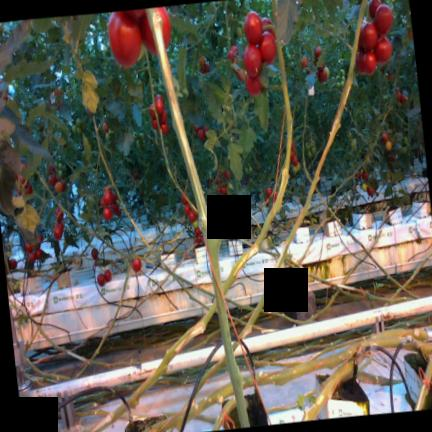6kp_peduncle: (263, 7, 282, 48)
MainStem: (145, 8, 251, 429), (238, 0, 366, 340), (93, 115, 210, 311), (223, 0, 293, 296), (315, 186, 422, 299), (126, 299, 218, 409), (146, 51, 198, 214), (256, 336, 410, 386), (302, 357, 354, 421), (186, 381, 234, 425), (81, 402, 128, 432), (143, 402, 189, 432), (194, 355, 226, 398), (212, 397, 236, 431), (371, 328, 429, 340), (417, 340, 432, 356)
tomato: (108, 12, 141, 67), (139, 7, 171, 54), (244, 11, 263, 45), (374, 4, 393, 36), (244, 44, 262, 77), (359, 21, 378, 51), (259, 31, 276, 64), (374, 37, 392, 64), (246, 74, 262, 96), (362, 52, 376, 75), (261, 17, 275, 39), (368, 0, 381, 18), (356, 50, 365, 74), (126, 9, 145, 18), (53, 222, 63, 239), (104, 188, 112, 205), (132, 257, 141, 272), (317, 69, 327, 82), (103, 206, 113, 219), (155, 100, 164, 114), (159, 109, 167, 123), (24, 180, 32, 194), (55, 207, 63, 221), (227, 47, 235, 61), (237, 69, 246, 81), (35, 247, 43, 260), (97, 274, 106, 285), (8, 258, 17, 269), (55, 181, 63, 193), (49, 174, 57, 186), (198, 56, 206, 68), (105, 268, 112, 281), (226, 183, 233, 196), (230, 45, 238, 56), (111, 202, 119, 213), (151, 118, 158, 130), (29, 251, 36, 263), (189, 210, 196, 222), (160, 123, 168, 133), (150, 103, 155, 119), (315, 46, 321, 59), (385, 140, 392, 151), (381, 132, 388, 143), (91, 248, 98, 259), (198, 129, 205, 140), (155, 94, 164, 102), (184, 203, 190, 215), (181, 192, 187, 204), (301, 56, 308, 66), (400, 93, 407, 103), (367, 186, 374, 196), (25, 242, 32, 252), (291, 155, 298, 165), (396, 88, 401, 101), (48, 165, 56, 173), (354, 171, 361, 180), (362, 170, 368, 180), (236, 27, 242, 37), (266, 187, 272, 197), (61, 179, 66, 190), (112, 191, 117, 202), (224, 170, 230, 179), (325, 67, 330, 77), (103, 122, 108, 132), (204, 62, 209, 72), (194, 236, 201, 243), (292, 165, 298, 173), (76, 118, 82, 126), (202, 126, 208, 134), (192, 220, 198, 228), (194, 228, 200, 236), (311, 147, 316, 156), (220, 187, 226, 194), (362, 183, 367, 191), (72, 125, 77, 133), (77, 127, 82, 135), (38, 234, 43, 242), (241, 22, 245, 32), (106, 132, 110, 141), (201, 67, 207, 73), (297, 162, 301, 170), (58, 170, 62, 178), (307, 150, 311, 158), (340, 69, 345, 75), (340, 81, 344, 88), (58, 163, 62, 170), (336, 82, 340, 88), (140, 133, 144, 139), (216, 178, 220, 184), (305, 143, 309, 149), (216, 187, 220, 191), (342, 76, 345, 80)
